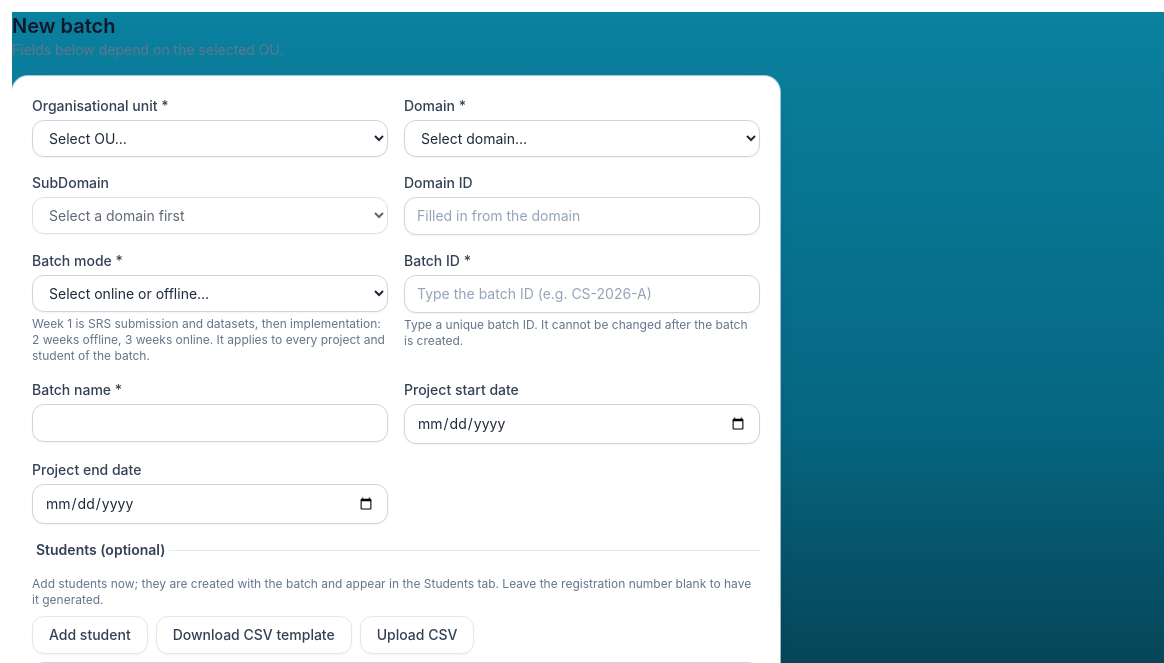
Test: batch form (dynamic OU fields) › renders OU-specific inputs from the API and switches when the OU changes
This screenshot has width=1164, height=663.
Select "Academic OU" in the dropdown labelled "Organisational unit *": (210, 138) [32,120,388,157]
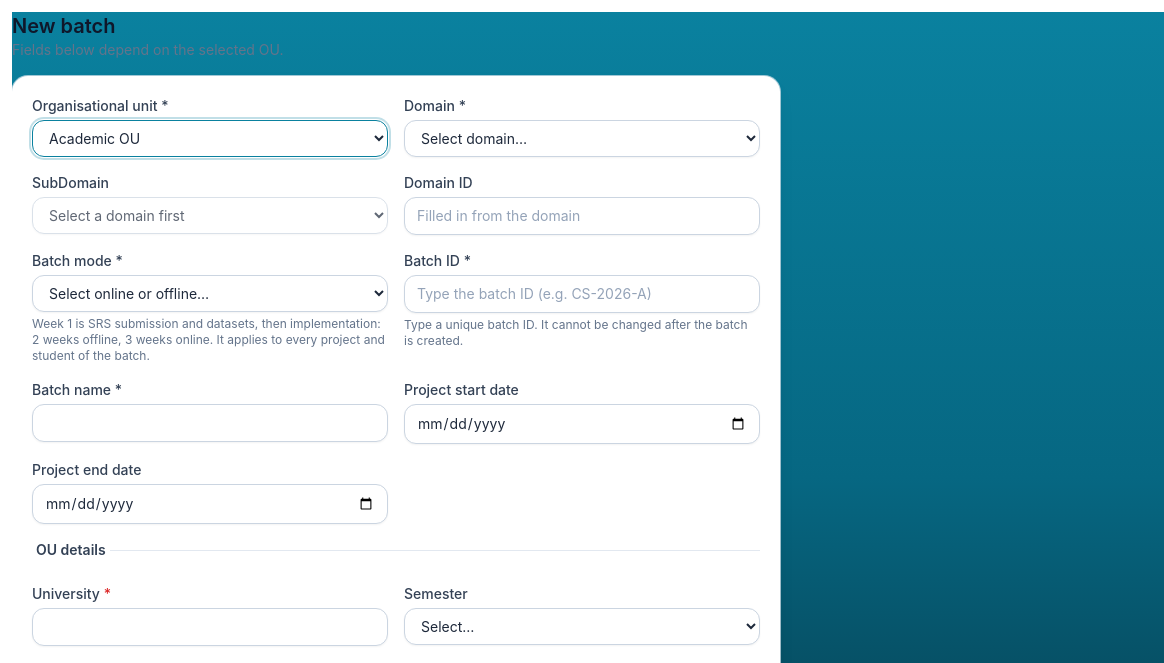
Check: the field labelled "coordinator" is not shown
Check: the field labelled "University *" is shown, box [32,608,388,646]
Select "Retail OU" in the dropdown labelled "Organisational unit *": (210, 138) [32,120,388,157]
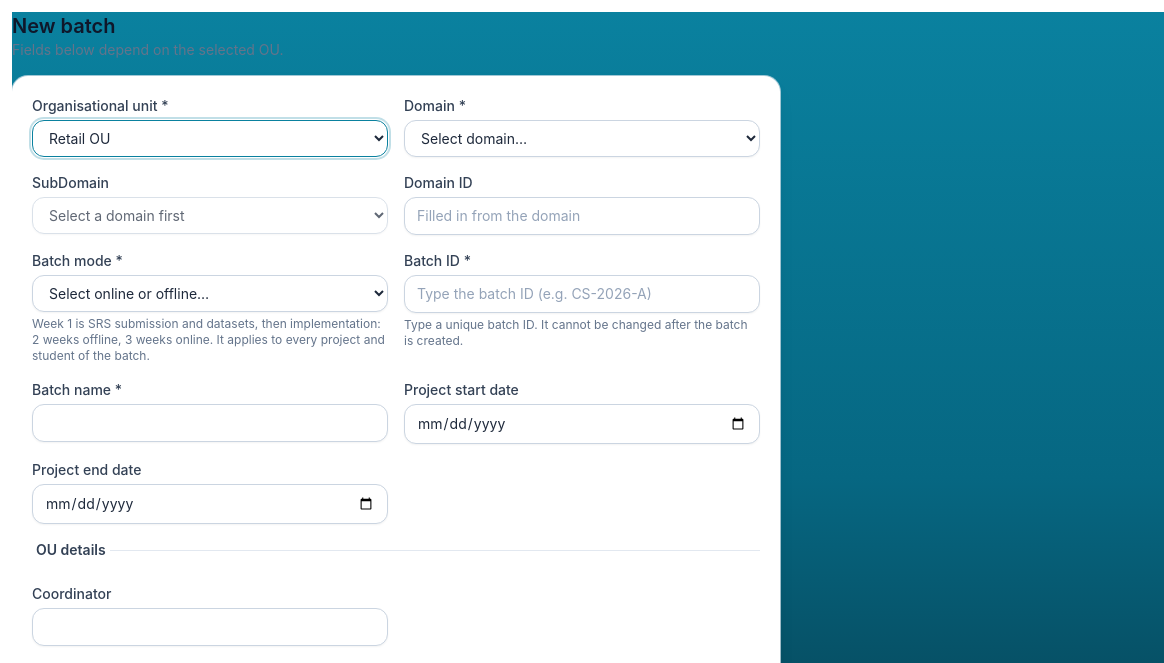
Check: the field labelled "Coordinator" is shown, box [32,608,388,646]
Check: the label labelled "University" is gone
